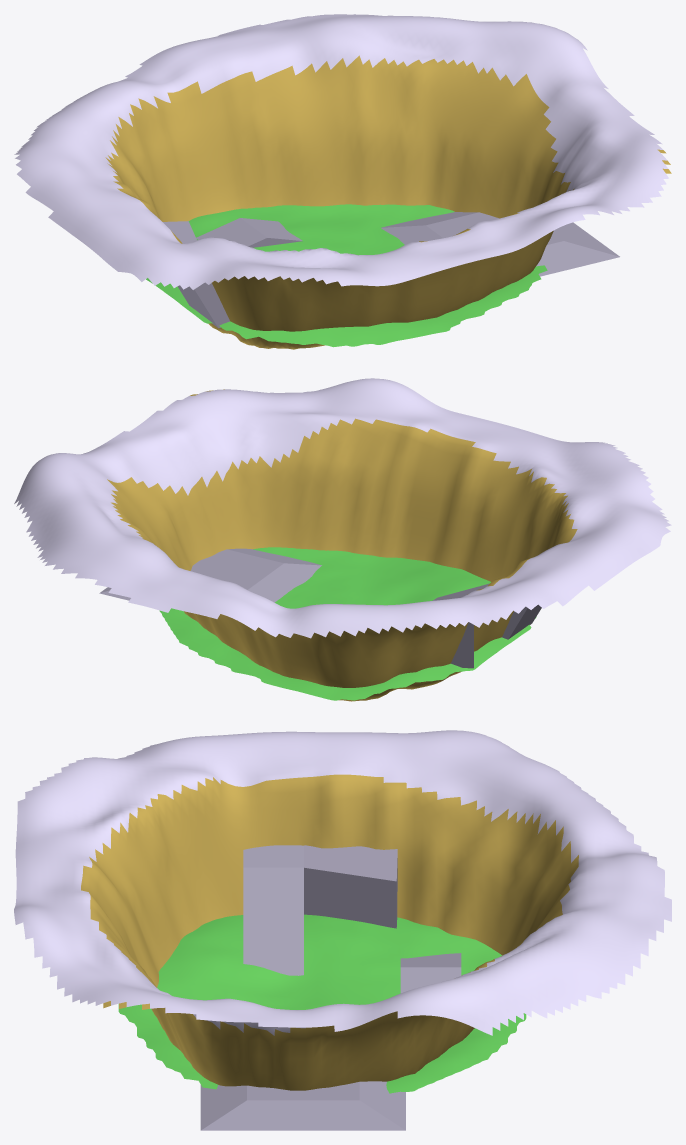
The model's file is RuinsTrack.glb.
3 renders of one model, top to bottom at view 1: azimuth 30°, elevation 25°; view 2: azimuth 150°, elevation 25°; view 3: azimuth 270°, elevation 25°, orthographic. The views are drawn at different scales.
Visible parts, largest first — view 1: Plane.001, Plane, Cube.002, Cube, Cube.001; view 2: Plane.001, Plane, Cube.002, Cube.001; view 3: Plane.001, Plane, Cube.001, Cube.002, Cube.
Part boxes in pixels (box(x1,y1,x2,y2)): Plane.001: box(14, 14, 671, 349); Plane: box(146, 204, 547, 347); Cube.002: box(381, 212, 619, 276); Cube: box(196, 218, 302, 247); Cube.001: box(163, 221, 229, 328); Plane.001: box(14, 378, 671, 701); Plane: box(159, 547, 536, 700); Cube.002: box(99, 548, 321, 602); Cube.001: box(432, 583, 541, 668); Plane.001: box(14, 730, 671, 1090); Plane: box(118, 914, 526, 1093); Cube.001: box(243, 845, 397, 975); Cube.002: box(200, 1081, 405, 1130); Cube: box(400, 953, 461, 993).
Bounding box in the file's own units: 456 × 128 × 418.
